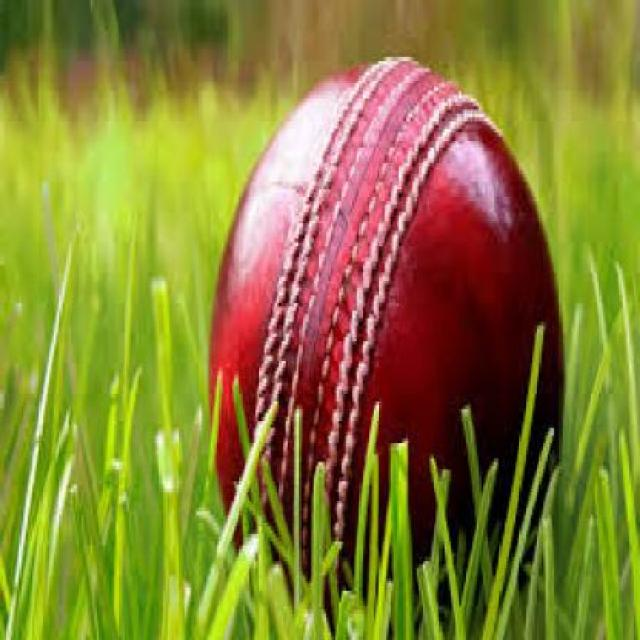ball: (175, 32, 591, 586)
